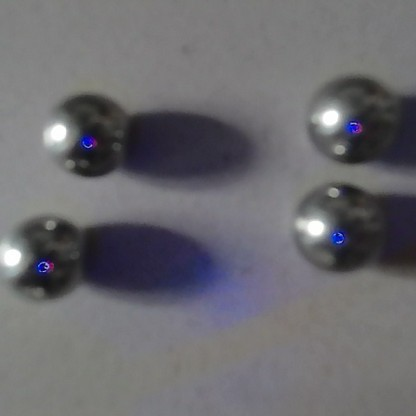ironball: (293, 182, 381, 271), (42, 92, 126, 178), (308, 76, 389, 160), (0, 217, 81, 300)
